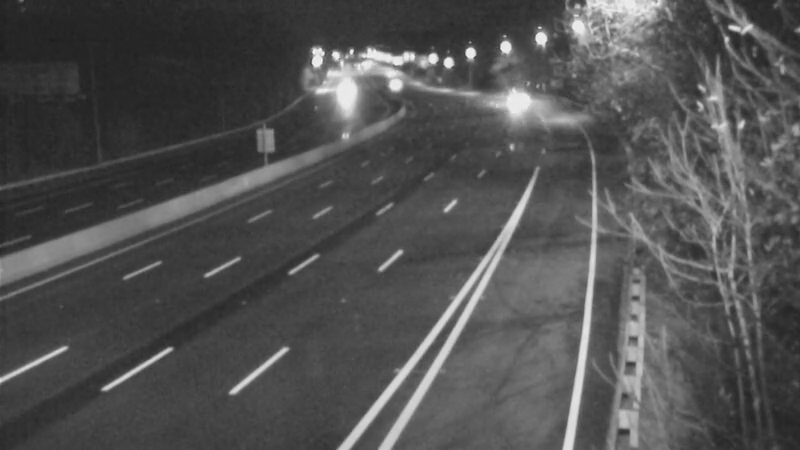vehicle: (367, 59, 417, 109), (488, 72, 538, 122), (319, 70, 369, 120)
